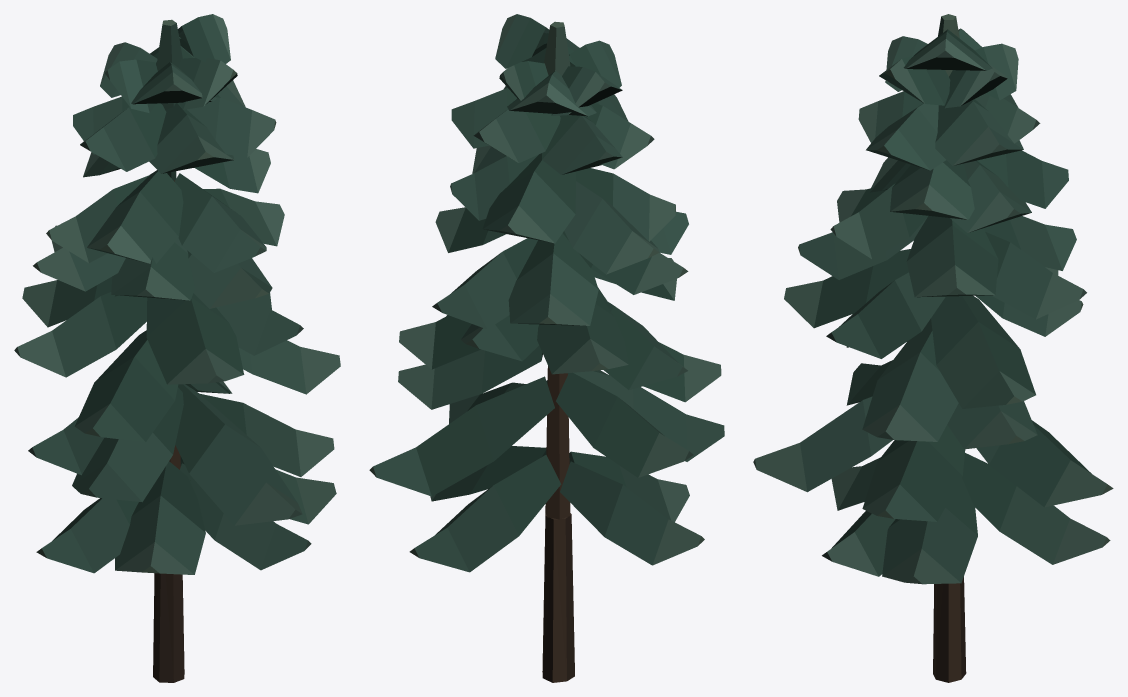
Rendered from sapling-pine.glb.
3 views of the same model, side by side, from view 1: azimuth 30°, elevation 25°; view 2: azimuth 150°, elevation 25°; view 3: azimuth 270°, elevation 25° (orthographic).
Parts seen in each view (by area): view 1: sapling-pine; view 2: sapling-pine; view 3: sapling-pine.
Boxes of the visible parts, bbox=[...] form: sapling-pine: bbox=[14, 14, 340, 682]; sapling-pine: bbox=[369, 14, 724, 682]; sapling-pine: bbox=[753, 14, 1113, 682].
Size of the model in its own units: 0.9474 by 2.05 by 1.02.
